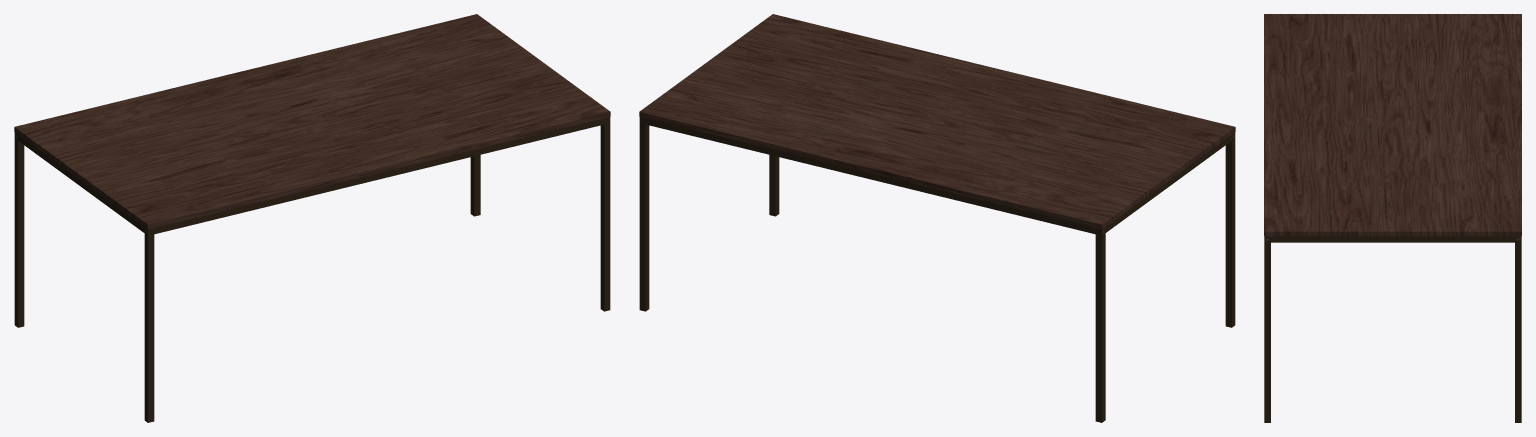
Rendered from office_table.glb.
The picture shows the model from 3 angles, left to right: view 1: azimuth 30°, elevation 25°; view 2: azimuth 150°, elevation 25°; view 3: azimuth 270°, elevation 25°; orthographic projection. The views are drawn at different scales.
Parts seen in each view (by area): view 1: Cube_Material.001_0; view 2: Cube_Material.001_0; view 3: Cube_Material.001_0.
Part boxes in pixels (left/top/right/bottom): Cube_Material.001_0: left=14, top=14, right=610, bottom=422; Cube_Material.001_0: left=639, top=14, right=1235, bottom=422; Cube_Material.001_0: left=1264, top=14, right=1521, bottom=422.
Size of the model in its own units: 150 by 61.5 by 75.08.
1 material, 1 textured.
